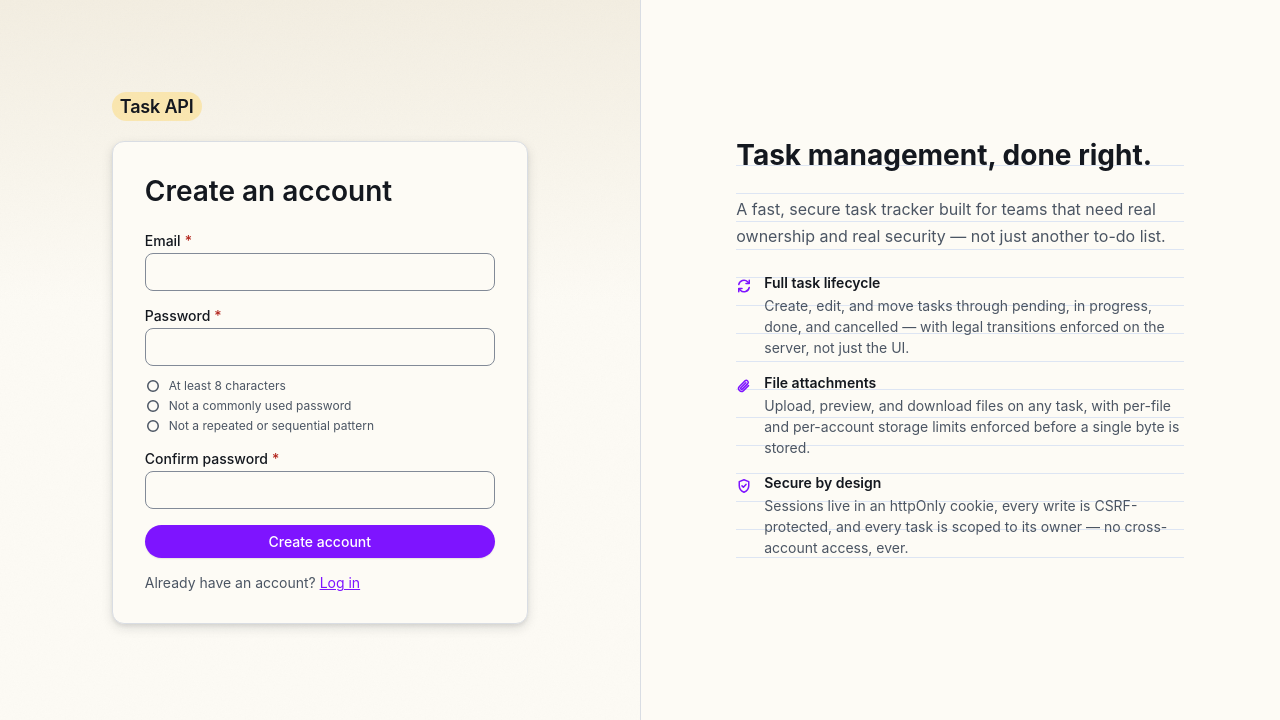
Test: RegisterPage › shows a distinct message on 429, not the generic fallback
Type "alice@example.com" into the field labelled "Email*" at (320, 272), box left=145, top=253, right=495, bottom=291
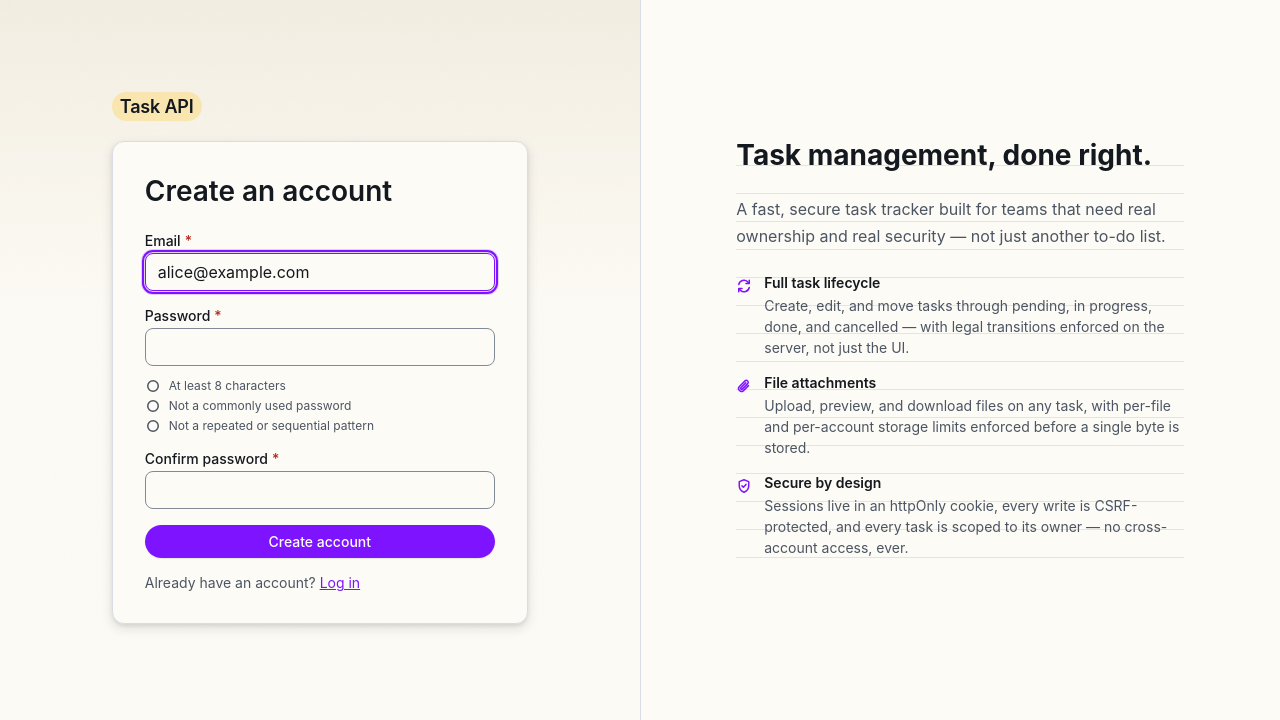
Type "correct horse battery staple" into the password field labelled "Password*" at (320, 347), box left=145, top=328, right=495, bottom=366
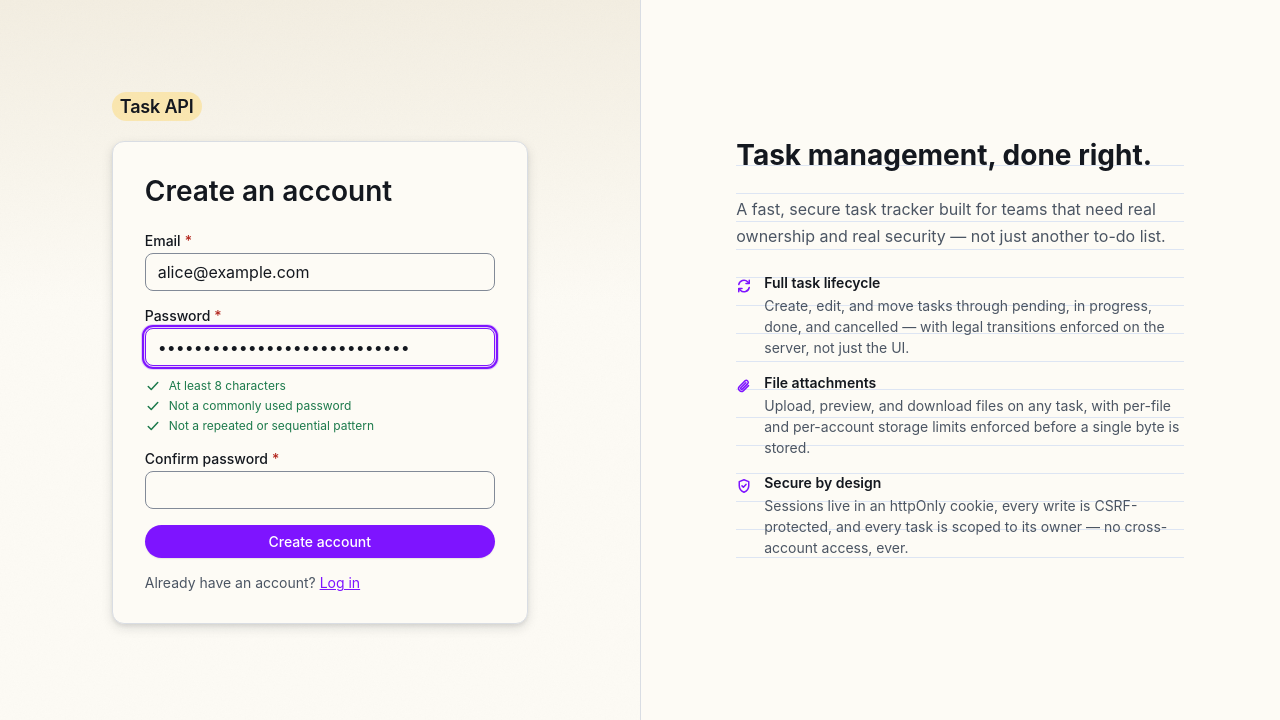
Type "correct horse battery staple" into the password field labelled "Confirm password*" at (320, 490), box left=145, top=471, right=495, bottom=509
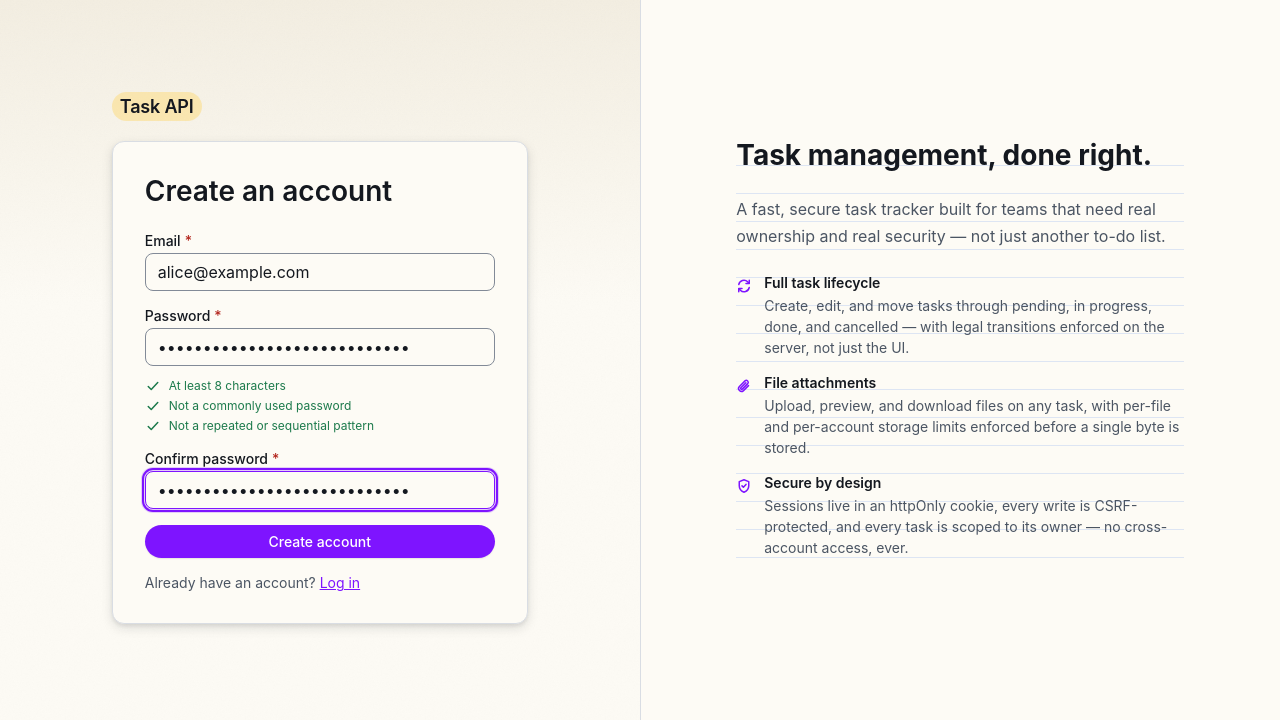
Click the button "Create account" at (320, 542), box left=145, top=525, right=495, bottom=558
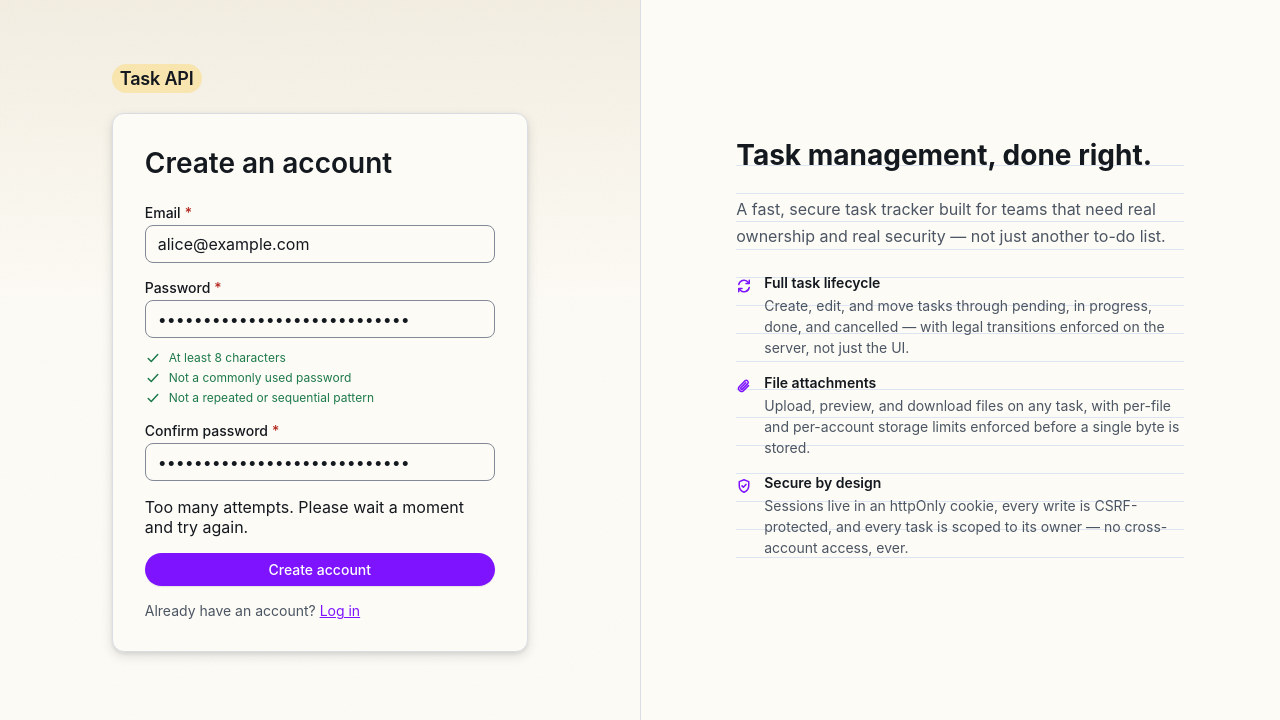
Expected: the message shows "Too many attempts", left=145, top=497, right=464, bottom=537
